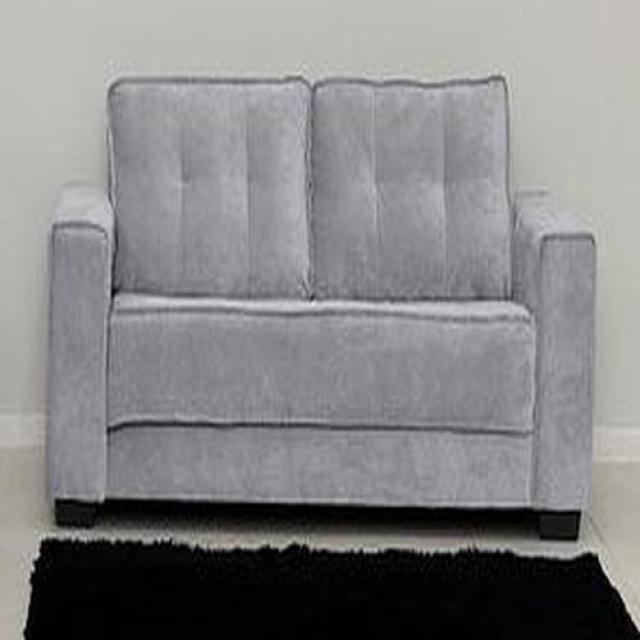sofa: (45, 76, 598, 541)
